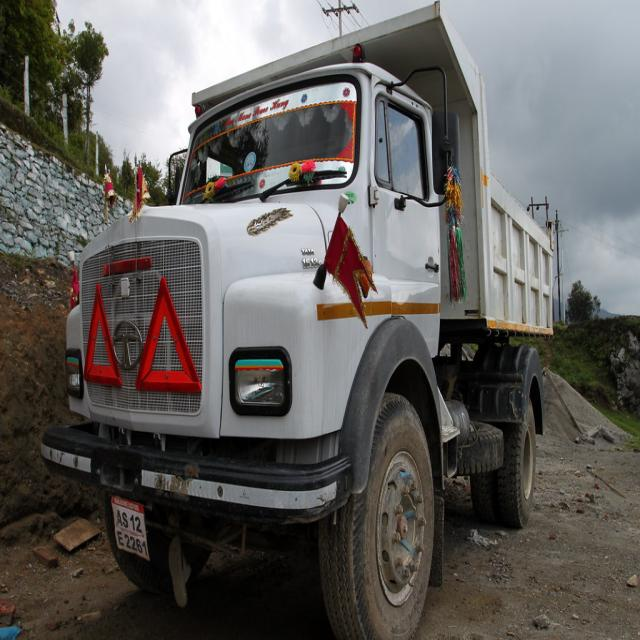truck: (41, 6, 554, 637)
